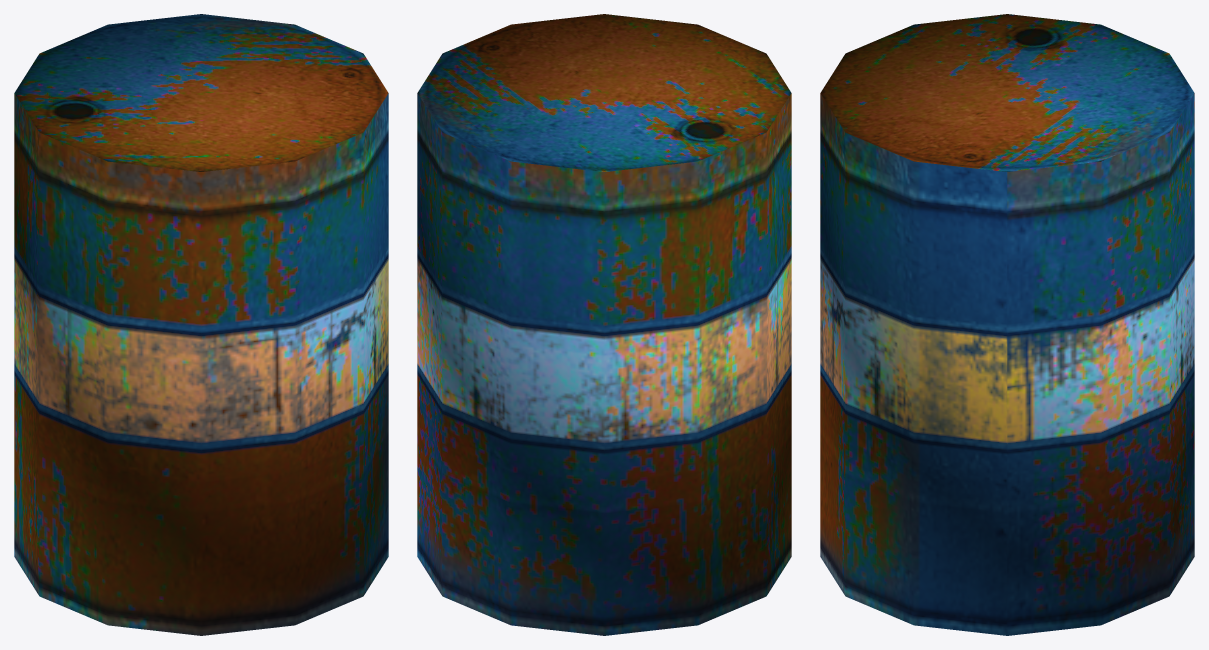
The model's file is bareel.FBX.
3 renders of one model, left to right at view 1: azimuth 30°, elevation 25°; view 2: azimuth 150°, elevation 25°; view 3: azimuth 270°, elevation 25°, orthographic.
Parts seen in each view (by area): view 1: Cylinder003; view 2: Cylinder003; view 3: Cylinder003.
Boxes of the visible parts, x1,y1,x2,y2 form: Cylinder003: (14,14,388,635); Cylinder003: (417,14,791,635); Cylinder003: (820,14,1194,635).
Bounding box in the file's own units: 16.52 × 22.59 × 16.52.
